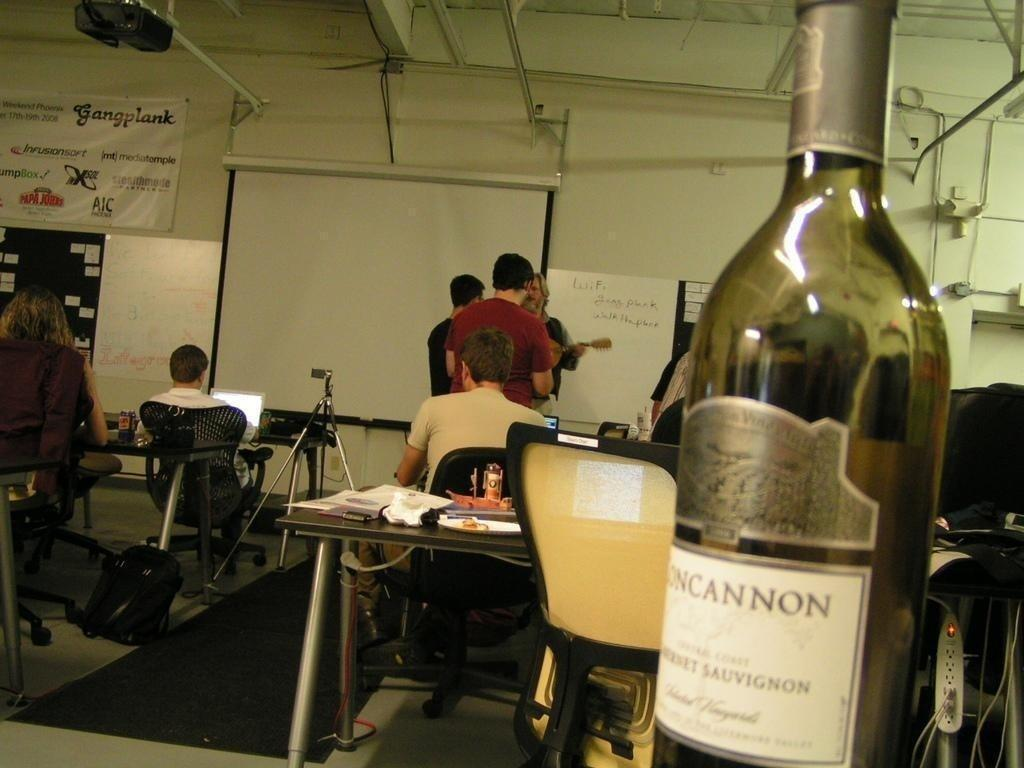bottle-glass: (651, 1, 952, 767)
